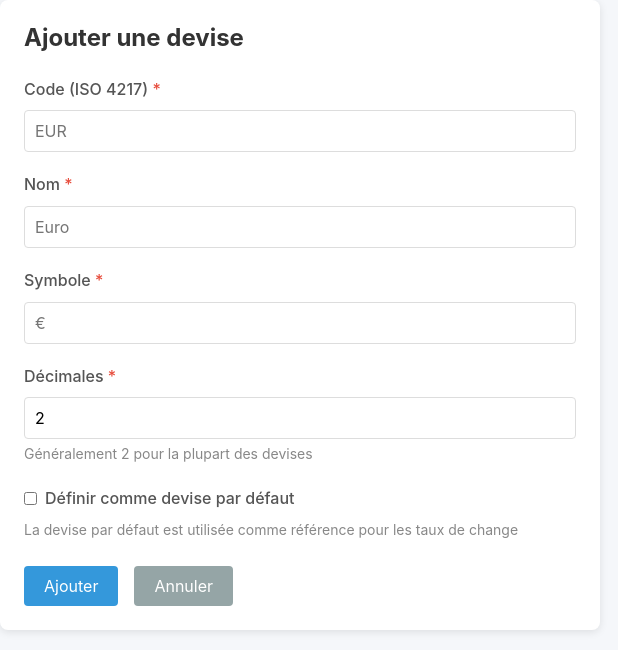
Test: CurrencyForm - Mode Ajout › devrait remplir automatiquement le formulaire lors de la sélection d'une suggestion
Type "USD" into the field labelled "Code (ISO 4217) *" at (300, 131), box left=24, top=110, right=576, bottom=152
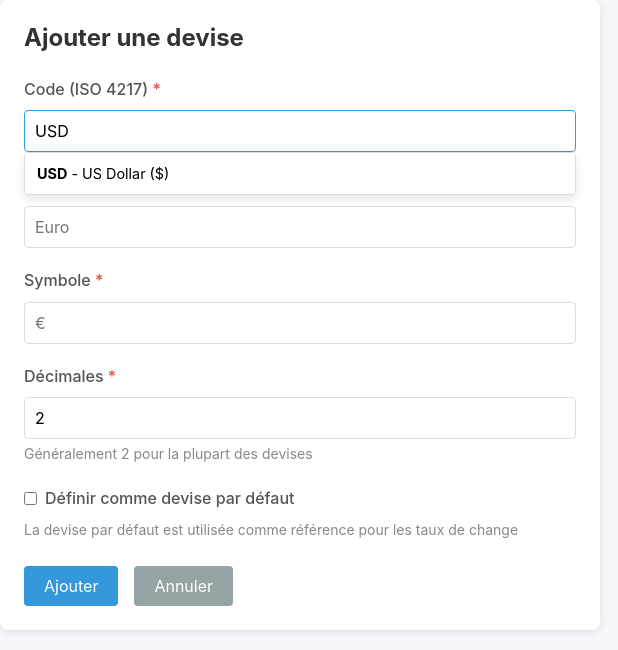
Result: the button "USD - US Dollar ($)" is shown
Click the button "USD - US Dollar ($)" at (52, 174), box left=25, top=153, right=575, bottom=194
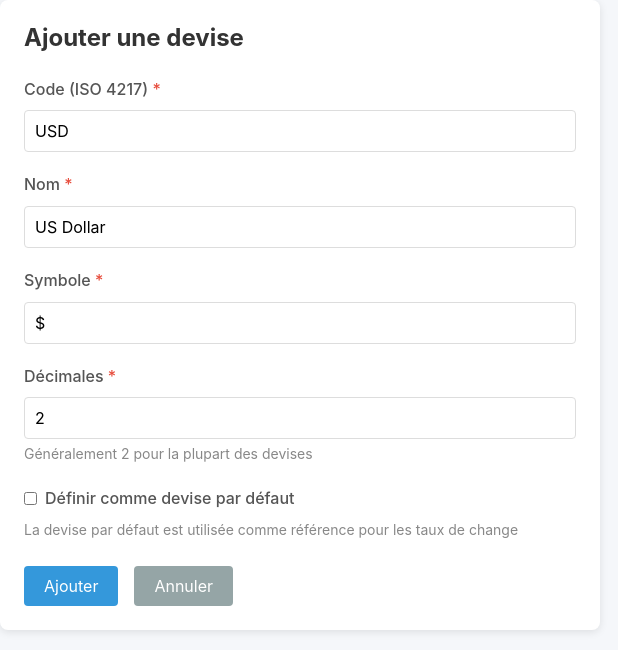
Expected: the number field labelled "Décimales *" holds "2", left=24, top=397, right=576, bottom=439
Result: the field labelled "Nom *" holds "US Dollar" at left=24, top=206, right=576, bottom=248
Result: the field labelled "Symbole *" holds "$" at left=24, top=302, right=576, bottom=344
